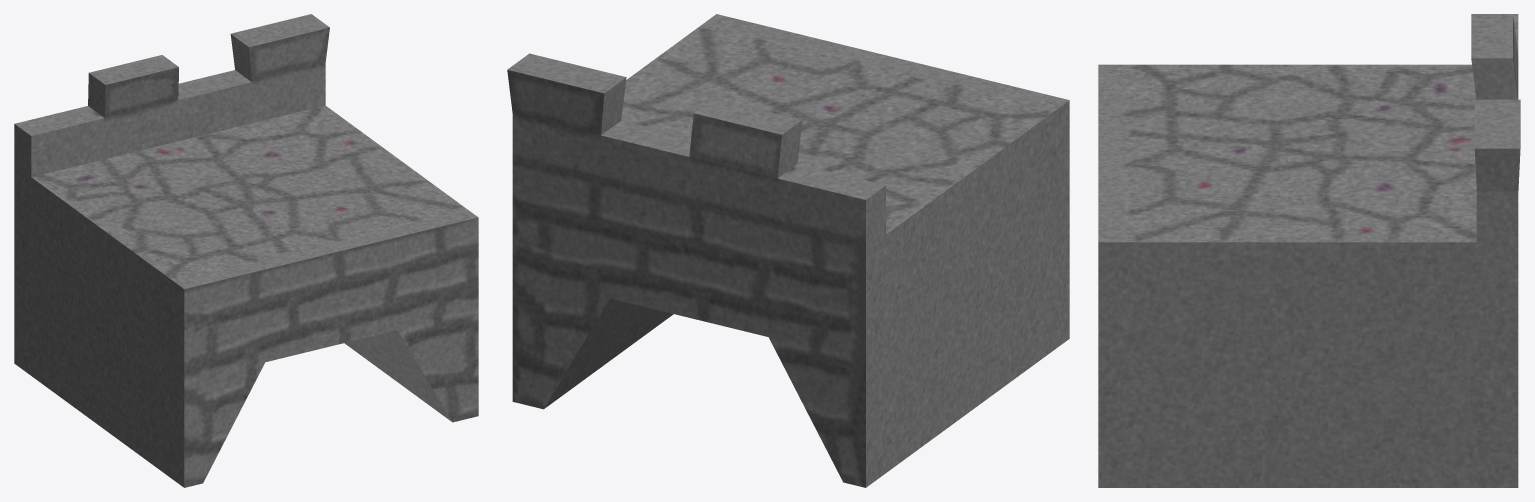
The model's file is winter_forest_side.fbx.
3 renders of one model, left to right at view 1: azimuth 30°, elevation 25°; view 2: azimuth 150°, elevation 25°; view 3: azimuth 270°, elevation 25°, orthographic. The views are drawn at different scales.
Visible parts, largest first — view 1: winter_forest_bridge_LOD0; view 2: winter_forest_bridge_LOD0; view 3: winter_forest_bridge_LOD0.
Boxes of the visible parts, <box> form: winter_forest_bridge_LOD0: <box>14,14,478,487</box>; winter_forest_bridge_LOD0: <box>507,14,1069,487</box>; winter_forest_bridge_LOD0: <box>1098,14,1520,487</box>.
Size of what is drawn, in the model's own units: 203 by 179 by 201.
